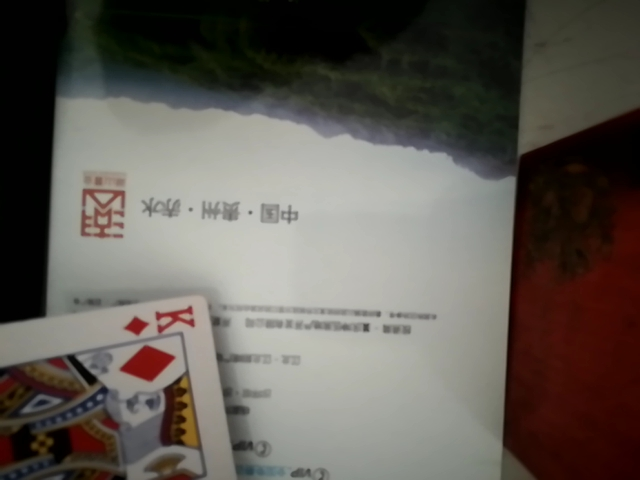fk k: (0, 302, 238, 478)
